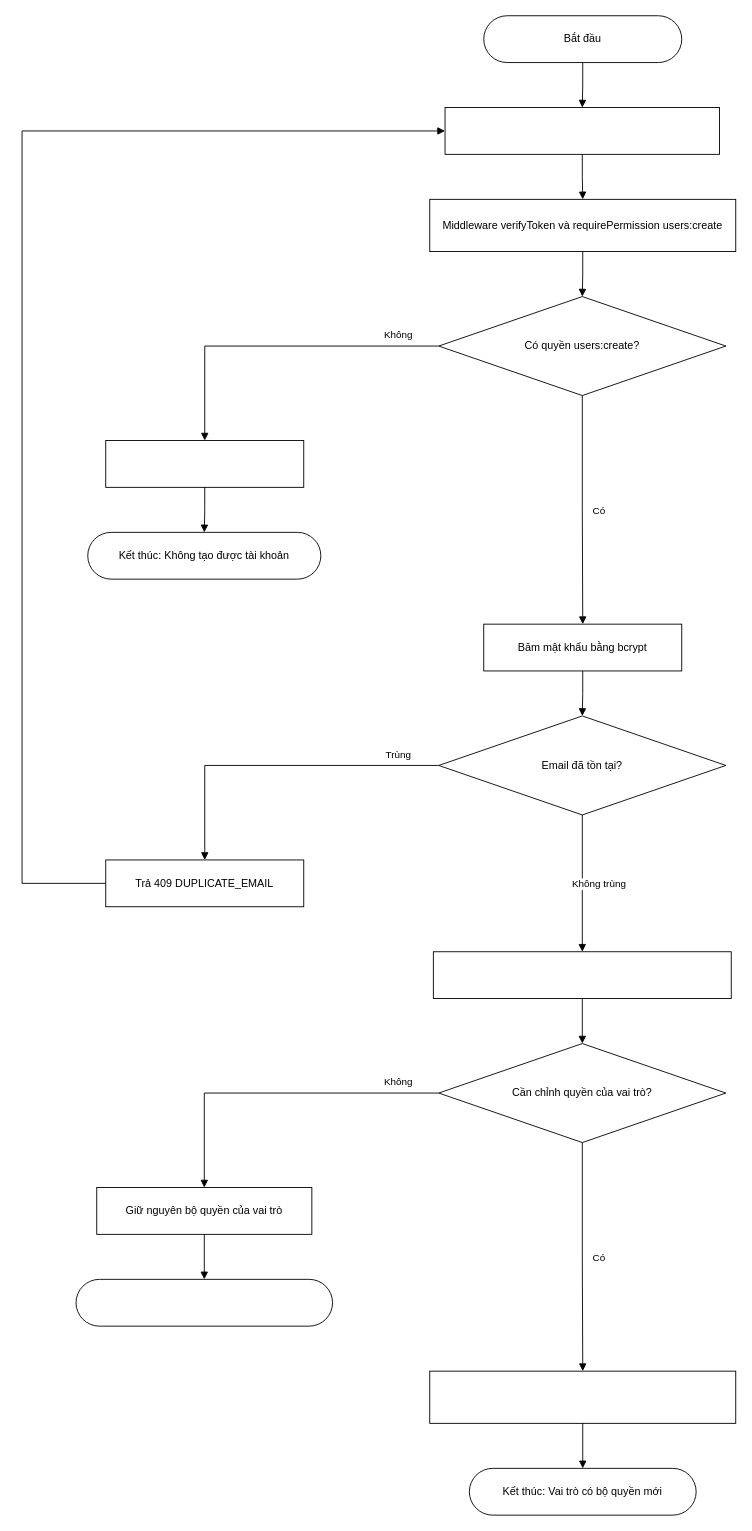
This 752x1531 diagram has some shape labels left out. Each missing label, with the centre of its shape:
Kết thúc: Tài khoản sẵn sàng đăng nhập: [204,1302]
Lưu bản ghi users, status ACTIVE, gán role_id: [581,975]
Nhập thông tin người dùng và chọn vai trò: [582,130]
PUT /authorization/roles/:id/permissions, ghi đè role_permissions: [582,1396]
Trả 403 FORBIDDEN: [204,463]
